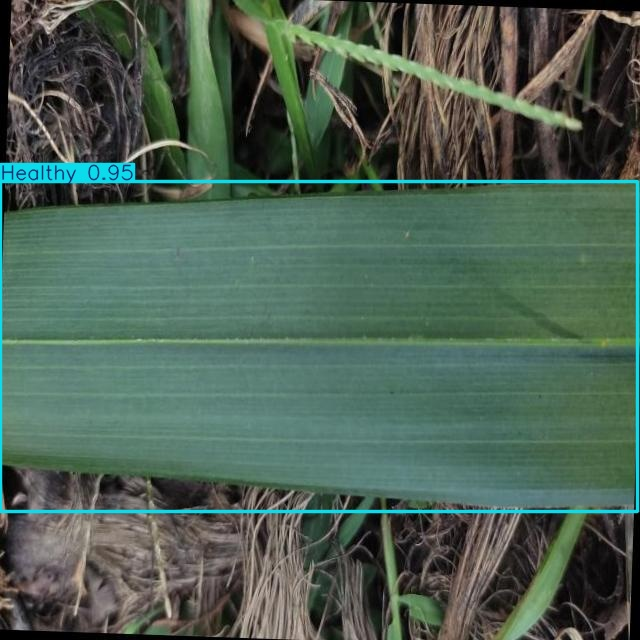Healthy: (0, 182, 637, 511)
